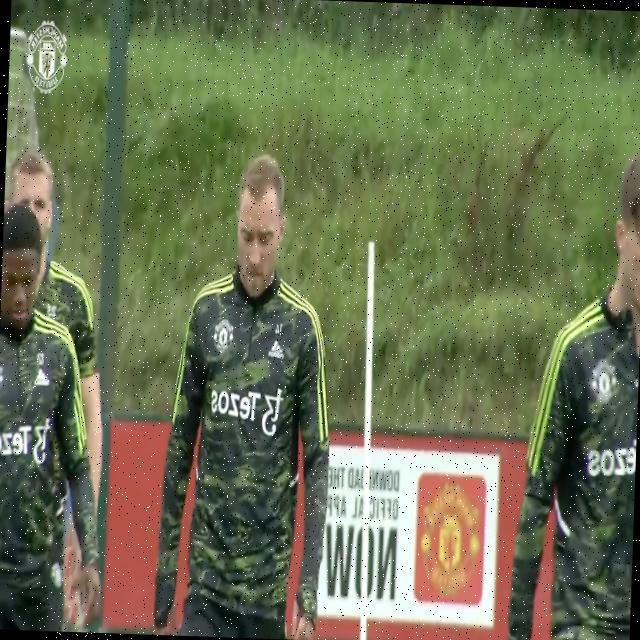Adidas: (267, 338, 286, 362), (33, 365, 51, 387)
